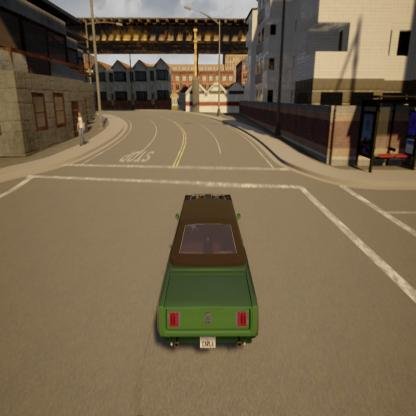Cars: (152, 182, 267, 360)
Pedestrian: (74, 110, 90, 152)
